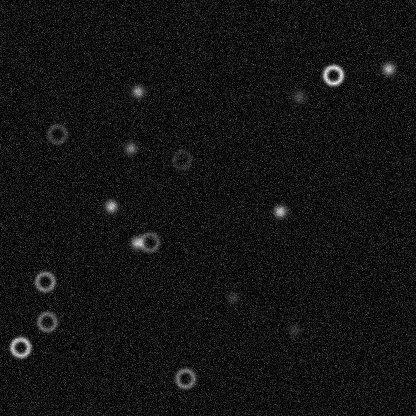Ring: (45, 121, 69, 145), (34, 309, 58, 333), (321, 63, 345, 87), (173, 366, 197, 390), (32, 269, 56, 293), (169, 147, 193, 171), (137, 230, 161, 254), (8, 335, 32, 359)
Spot: (129, 83, 145, 99), (285, 322, 301, 338), (271, 203, 287, 219), (102, 198, 118, 214), (129, 234, 145, 250), (290, 88, 306, 104), (380, 60, 396, 76), (224, 289, 240, 305), (122, 140, 138, 156)
